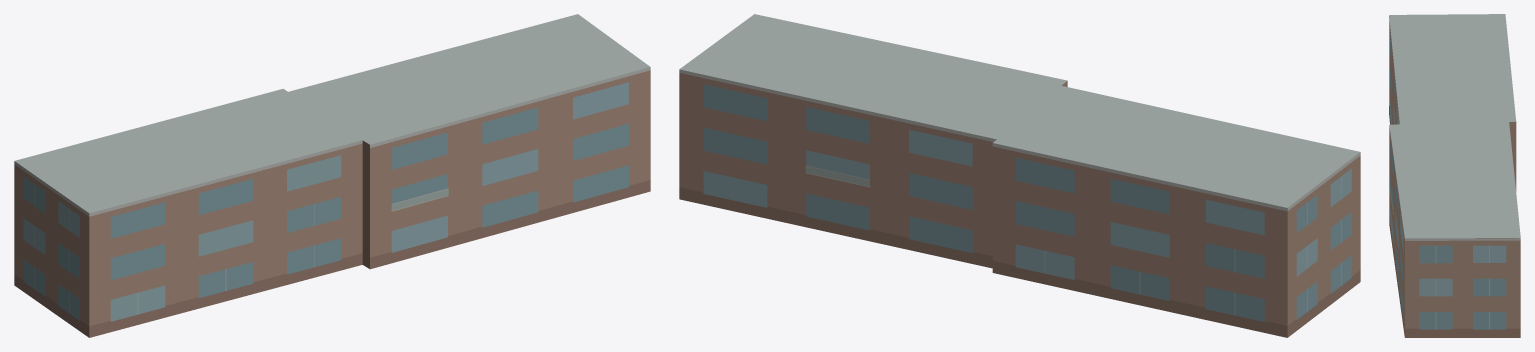
Rendered from survey-upis-32809311.glb.
3 renders of one model, left to right at view 1: azimuth 30°, elevation 25°; view 2: azimuth 150°, elevation 25°; view 3: azimuth 270°, elevation 25°, orthographic. The views are drawn at different scales.
Visible parts, largest first — view 1: survey-upis-32809311.tmp; view 2: survey-upis-32809311.tmp; view 3: survey-upis-32809311.tmp.
Boxes of the visible parts, box(x1,y1,x2,y2) form: survey-upis-32809311.tmp: box(14, 14, 650, 337); survey-upis-32809311.tmp: box(679, 14, 1360, 337); survey-upis-32809311.tmp: box(1389, 14, 1520, 337).
Size of the model in its own units: 44.11 by 9.15 by 10.96.
